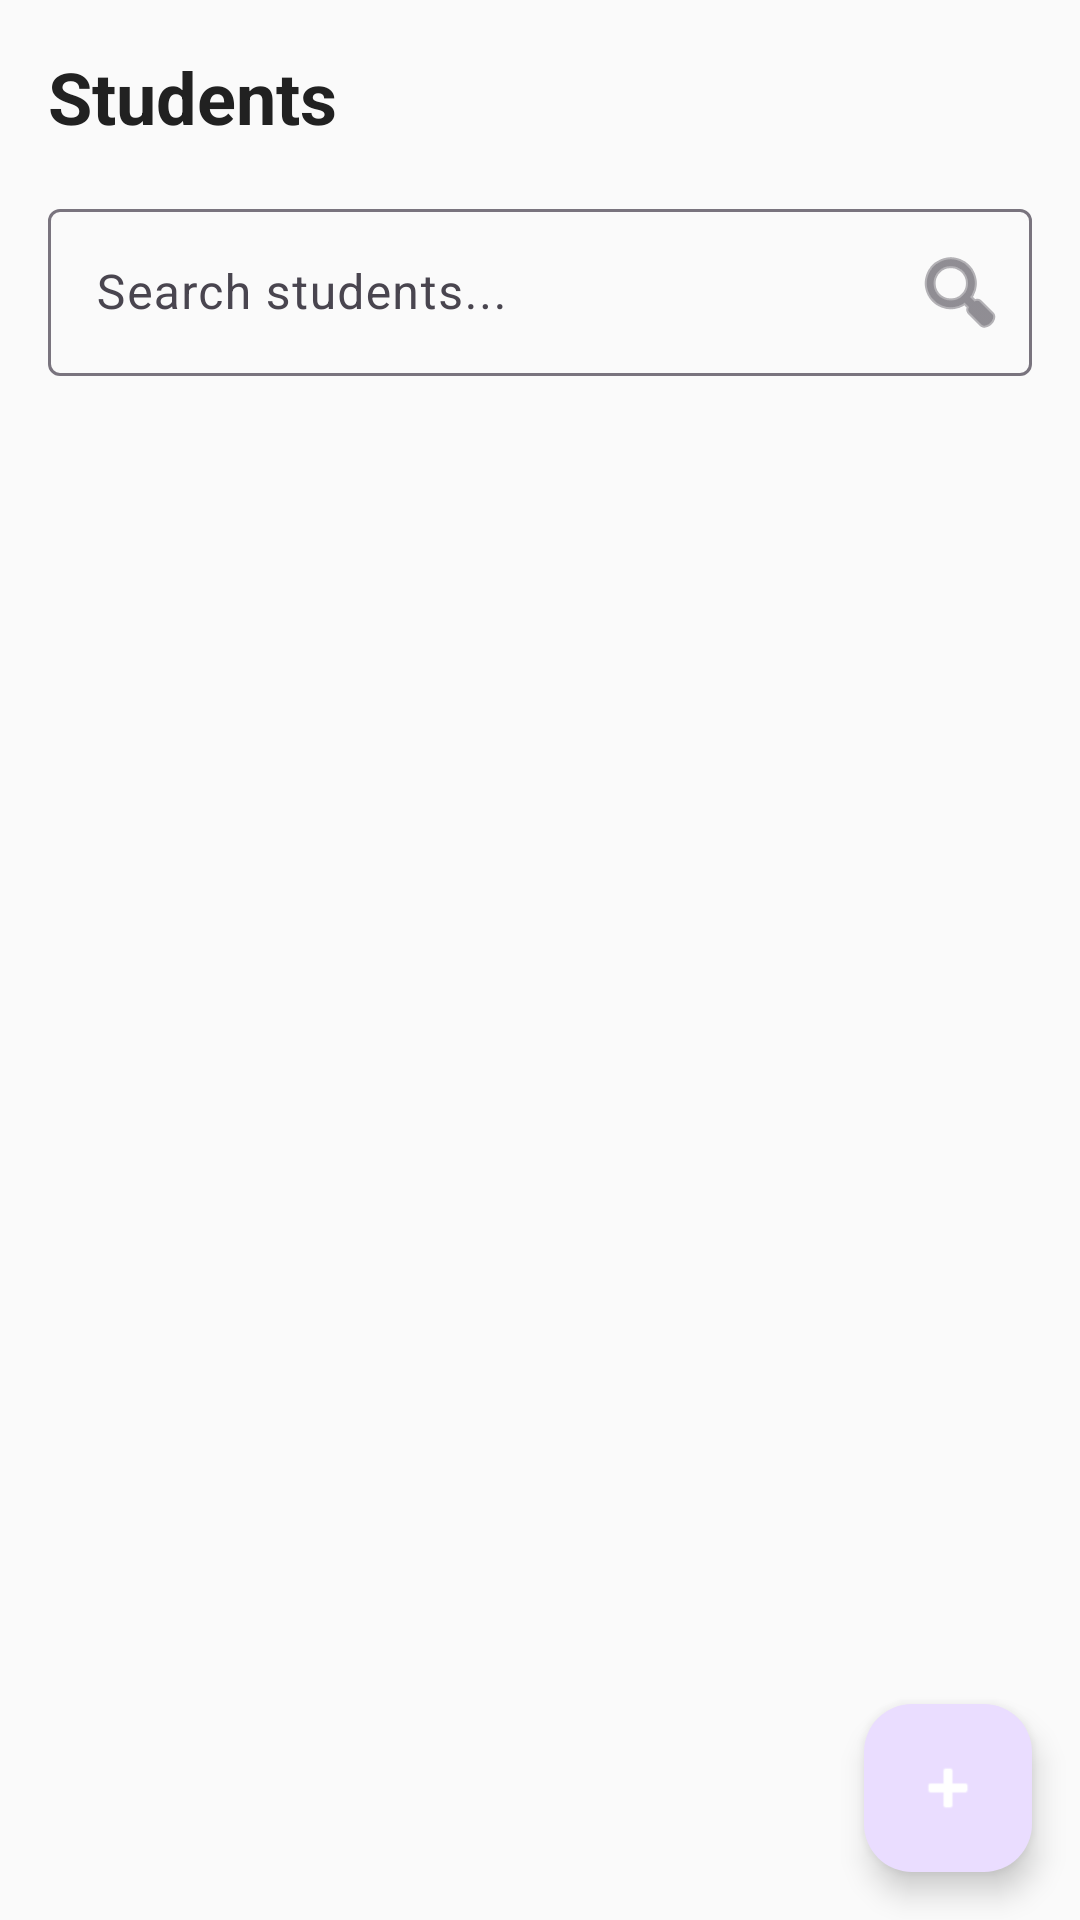

Point at icon controls on the screen. Image size 1080px x 1920px, points as (x,y).
Add Student: (948,1788)
